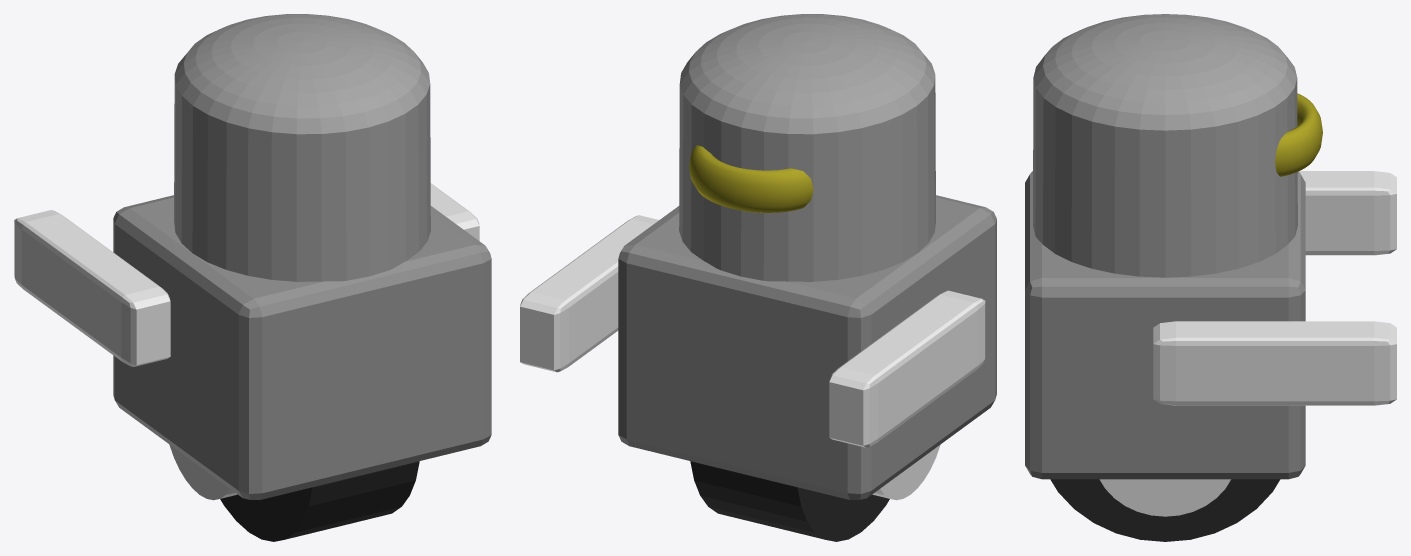
Rendered from player.fbx.
The picture shows the model from 3 angles, left to right: view 1: azimuth 30°, elevation 25°; view 2: azimuth 150°, elevation 25°; view 3: azimuth 270°, elevation 25°; orthographic projection.
Parts seen in each view (by area): view 1: Cube, 円柱.003, 立方体.001, 円柱, 円柱.002, 立方体; view 2: Cube, 円柱.003, 立方体.001, 立方体, 円柱, トーラス, 円柱.002; view 3: 円柱.003, Cube, 立方体, 立方体.001, 円柱, 円柱.001, トーラス.
Boxes of the visible parts, x1,y1,x2,y2 form: Cube: [113, 195, 491, 499]; 円柱.003: [174, 14, 430, 281]; 立方体.001: [14, 210, 170, 366]; 円柱: [220, 461, 419, 541]; 円柱.002: [169, 444, 237, 500]; 立方体: [430, 183, 479, 240]; Cube: [618, 195, 996, 499]; 円柱.003: [679, 14, 935, 281]; 立方体.001: [829, 290, 985, 447]; 立方体: [520, 215, 658, 372]; 円柱: [690, 461, 889, 541]; トーラス: [689, 145, 813, 212]; 円柱.002: [872, 444, 940, 500]; 円柱.003: [1033, 14, 1297, 277]; Cube: [1025, 171, 1305, 479]; 立方体: [1153, 321, 1396, 405]; 立方体.001: [1299, 171, 1396, 255]; 円柱: [1050, 479, 1280, 541]; 円柱.001: [1099, 479, 1230, 516]; トーラス: [1275, 93, 1322, 176].
Bounding box in the file's own units: 51.94 × 67.61 × 47.88.
